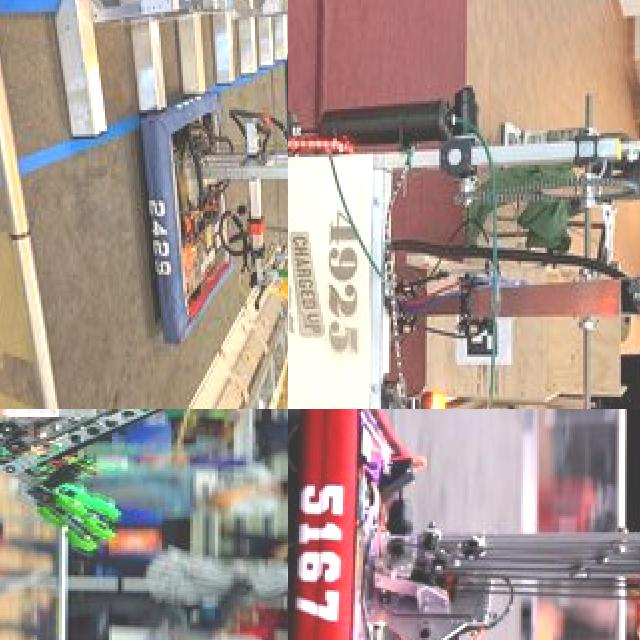FRC-Robots: (288, 0, 640, 409), (288, 409, 640, 640), (131, 0, 288, 409), (0, 409, 224, 593)
